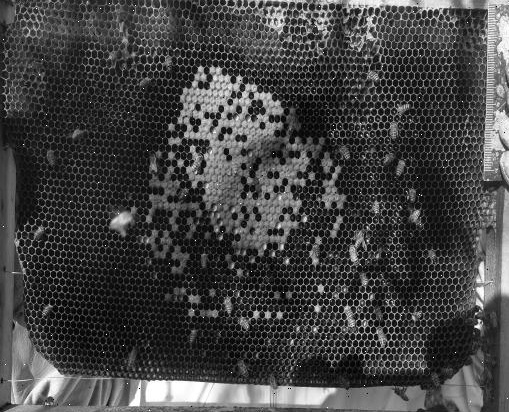cria: (135, 66, 347, 320)
